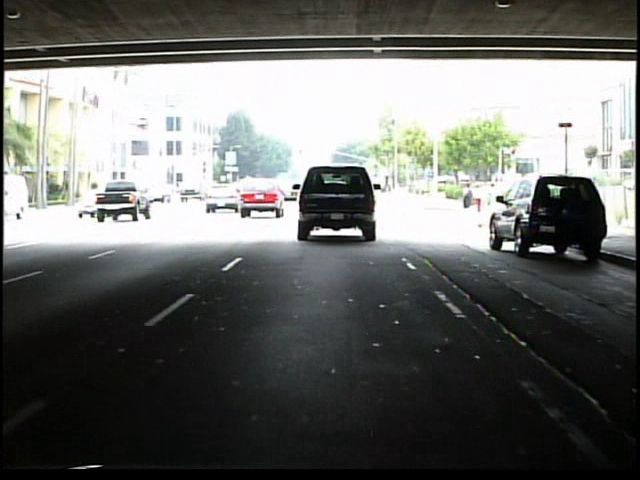person: (485, 179, 501, 216), (461, 180, 476, 215), (474, 184, 485, 211)
